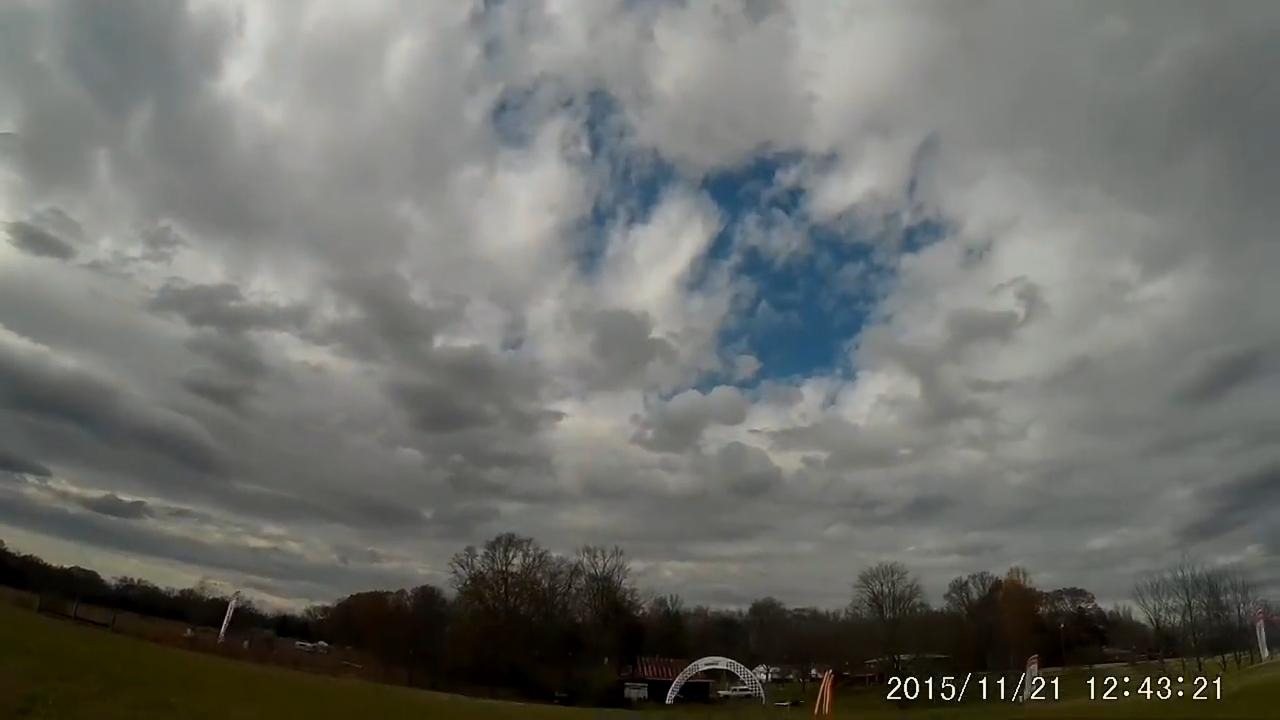gate: (663, 657, 770, 707)
